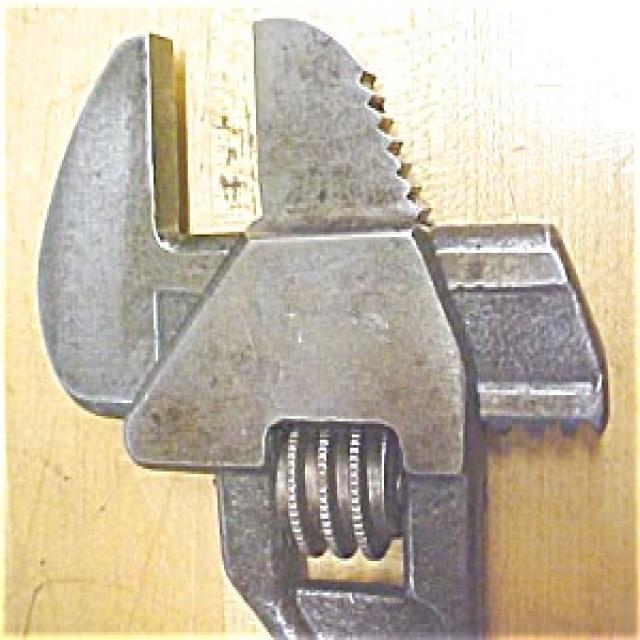wrench: (29, 11, 620, 640)
